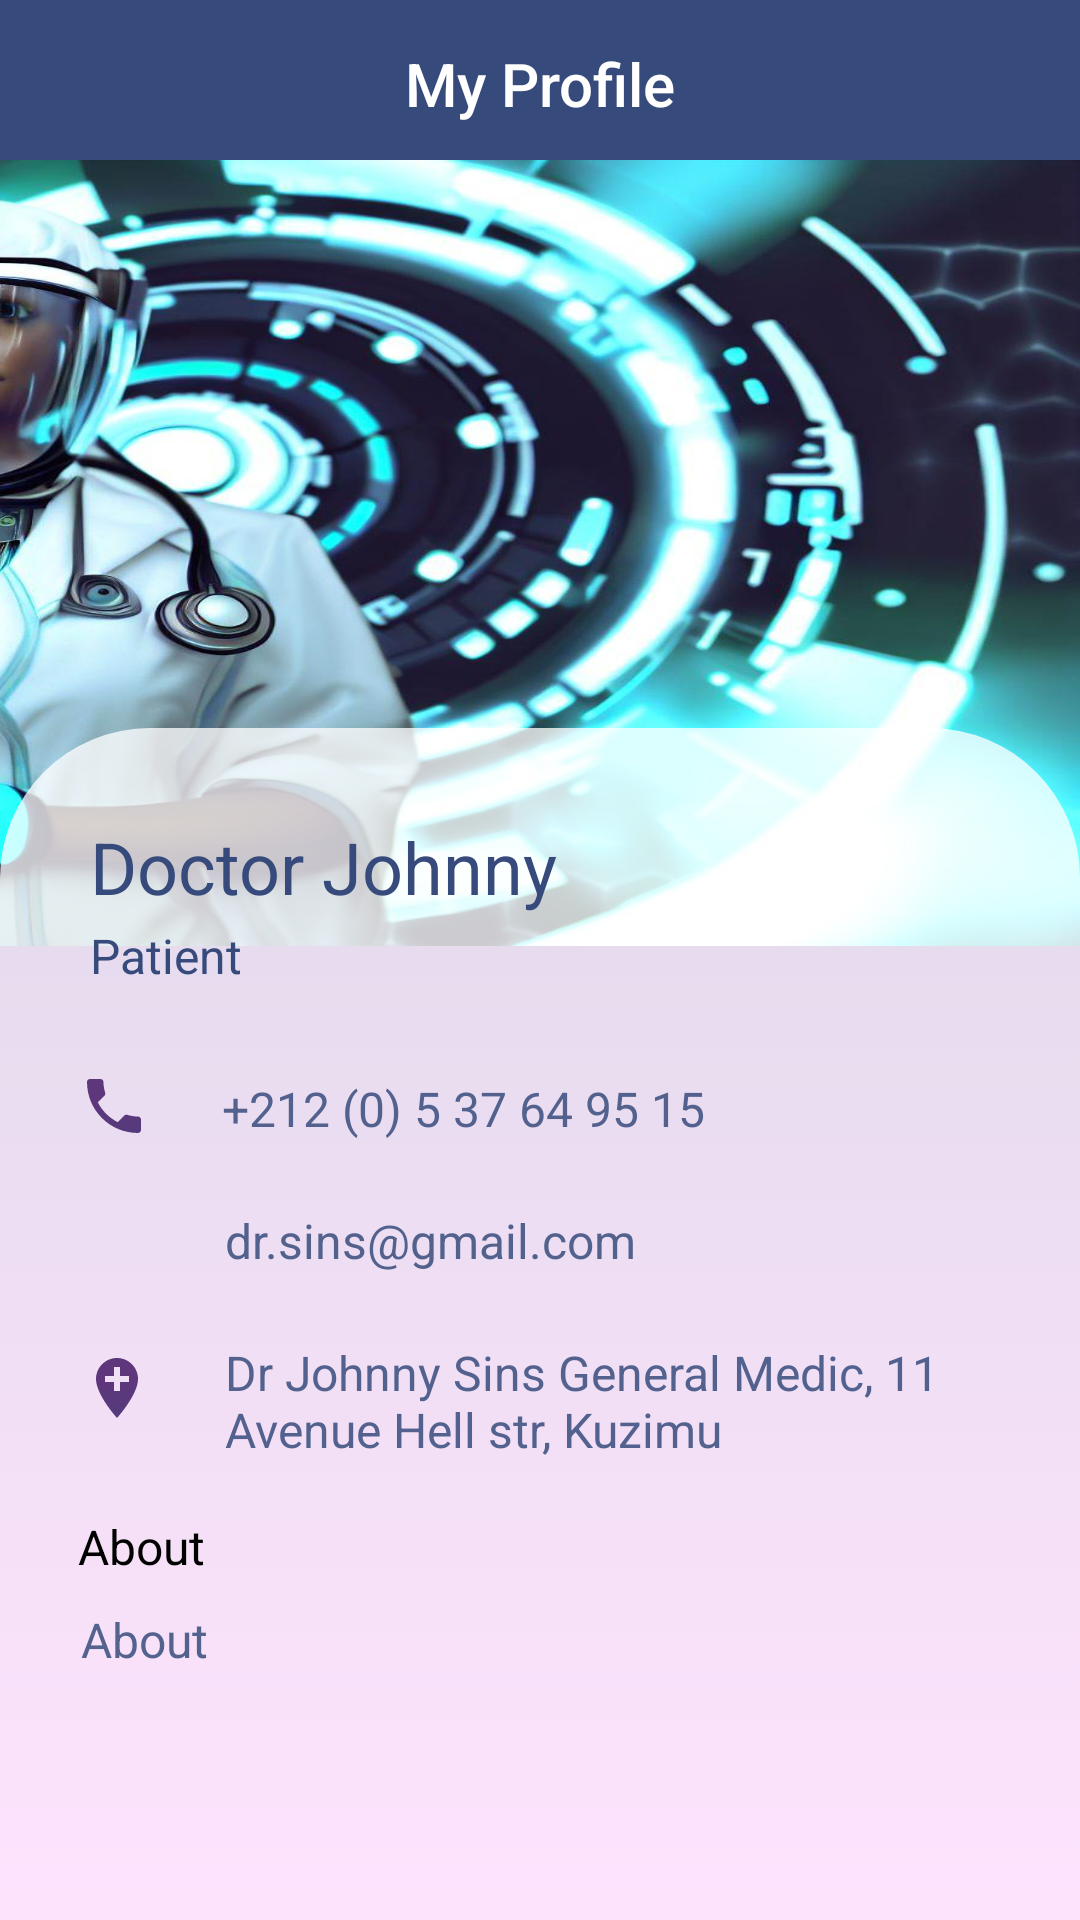

Where icons sit on this 1080 × 1920 app screen, as (x1, y1, x2, y2):
add location: (96, 1358, 138, 1418)
call: (87, 1079, 141, 1133)
